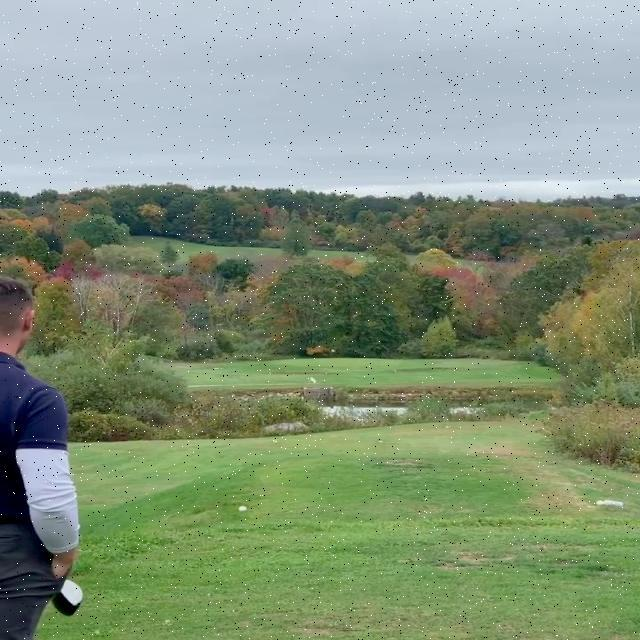golf ball: (236, 504, 250, 514)
golf club-head: (54, 570, 90, 615)
